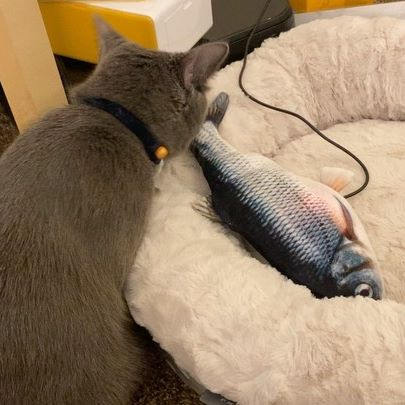cat: (74, 10, 230, 166)
